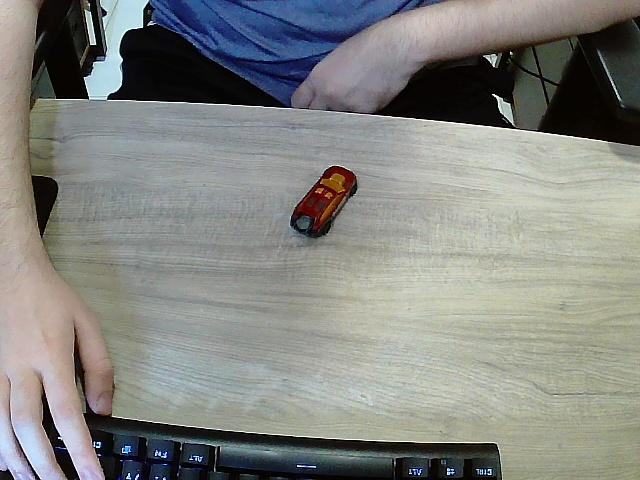Carro: (289, 167, 358, 240)
